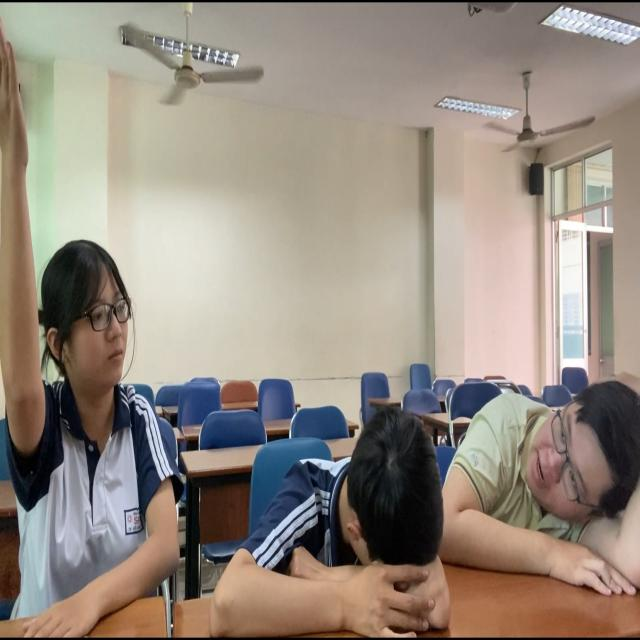raise_hand: (1, 23, 166, 640)
sleep: (219, 407, 448, 628), (459, 379, 640, 582)
